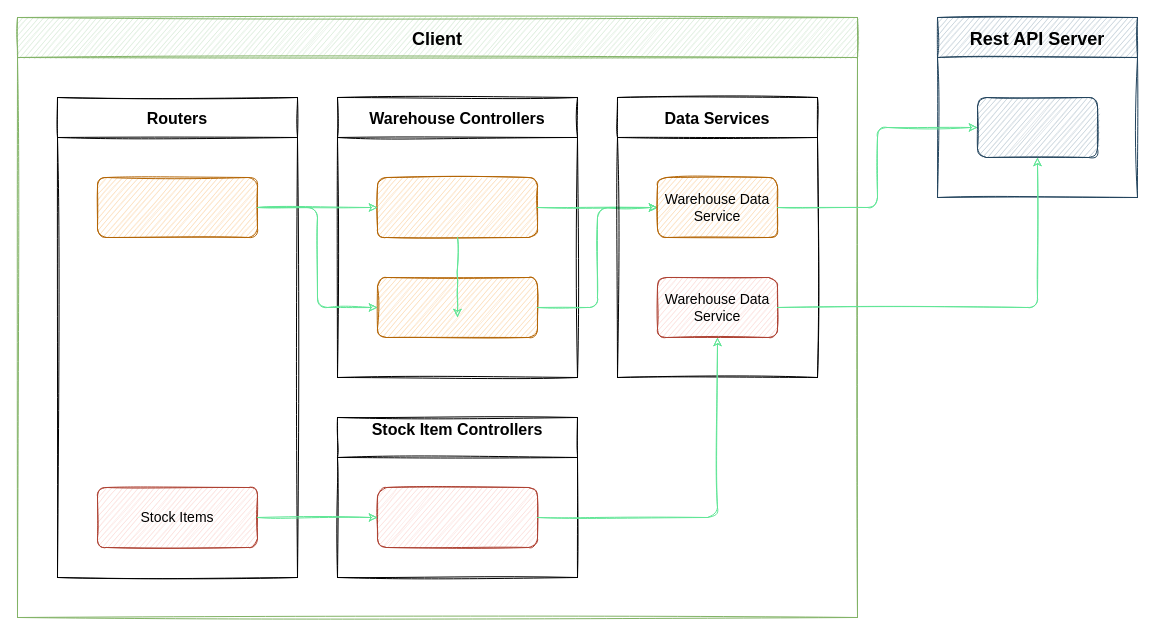
This 1155x635 diagram has some shape labels left out. The centre of each missing label's shape, as x and y in pixels:
Add Edit Warehouse: pixel 457 307
Controllers: pixel 457 517
List Warehouse: pixel 457 207
Routers...: pixel 1037 127
Warehouses: pixel 177 207
